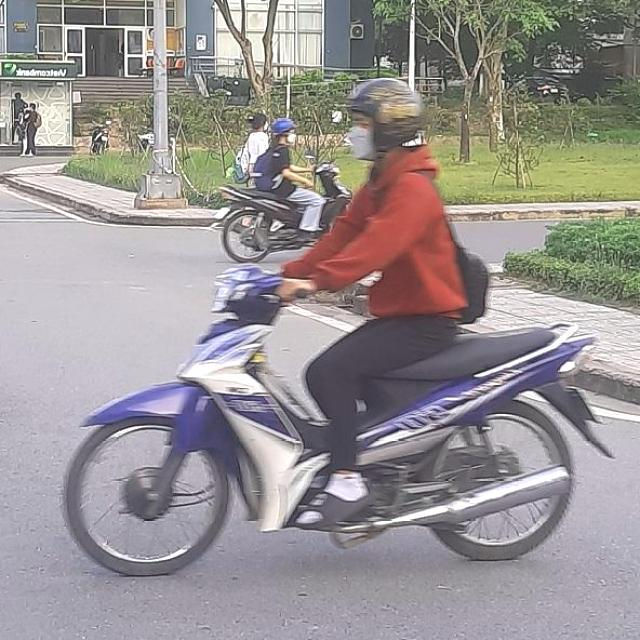Helmet: (348, 76, 424, 152)
